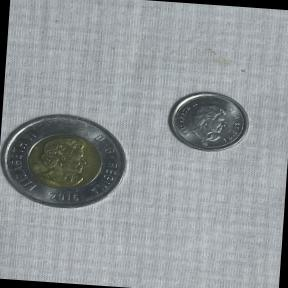coin: (0, 101, 141, 217), (158, 84, 259, 161)
